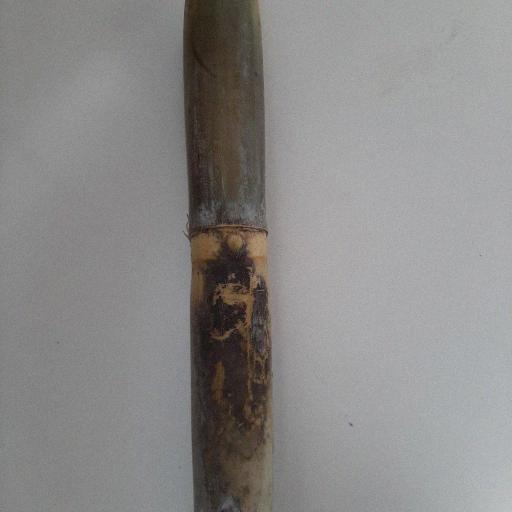Bud: (224, 232, 246, 259)
